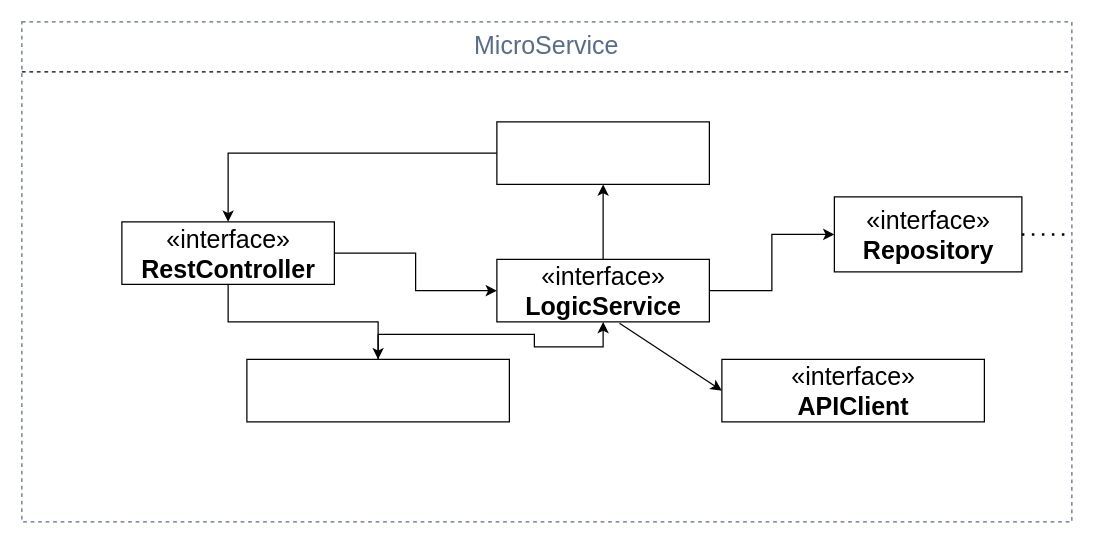
Image size: 1096x544. Some labels were removed from this diagram. The centre of each missing label's shape, as x and y in pixels:
«interface» PresentationService: (377,390)
«interface» ValidationService: (602,152)
